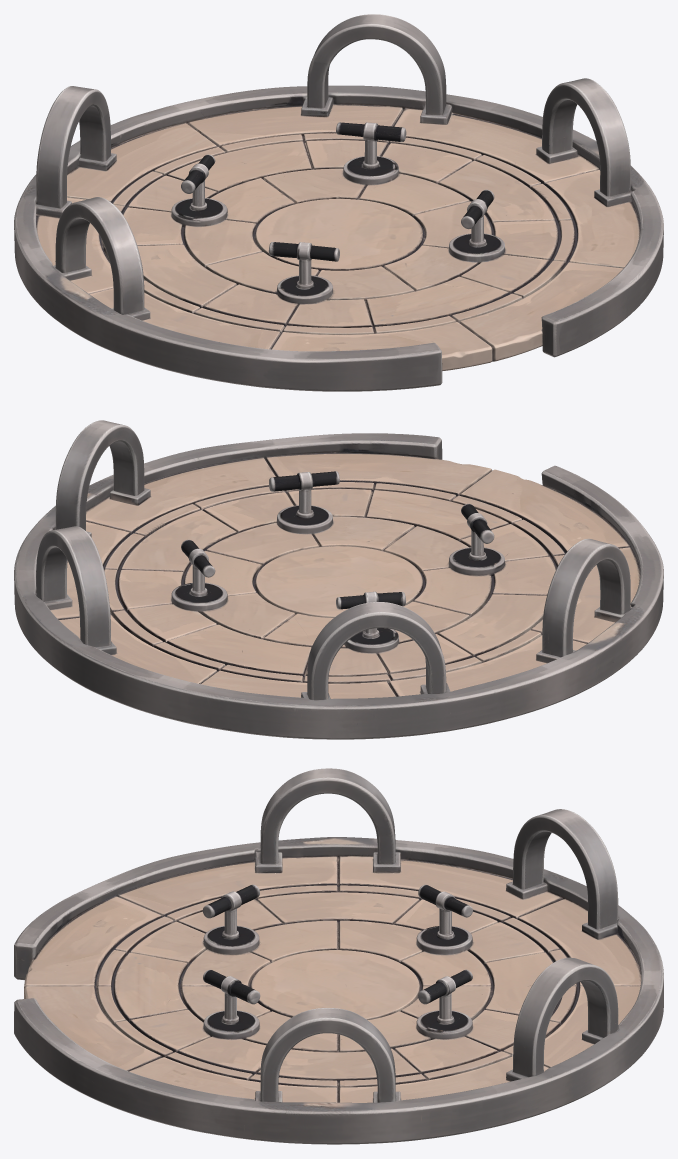
File: Nivel3_MI_El_fraseo_nivel_completo.fbx
The picture shows the model from 3 angles, top to bottom: view 1: azimuth 30°, elevation 25°; view 2: azimuth 150°, elevation 25°; view 3: azimuth 270°, elevation 25°; orthographic projection.
Parts seen in each view (by area): view 1: Mesh_0; view 2: Mesh_0; view 3: Mesh_0.
Part boxes in pixels (x1,y1,x2,y2): Mesh_0: (14,14,663,391); Mesh_0: (14,420,663,739); Mesh_0: (14,768,663,1144).
Size of the model in its own units: 190 by 37.7 by 190.
1 material, 1 textured.
